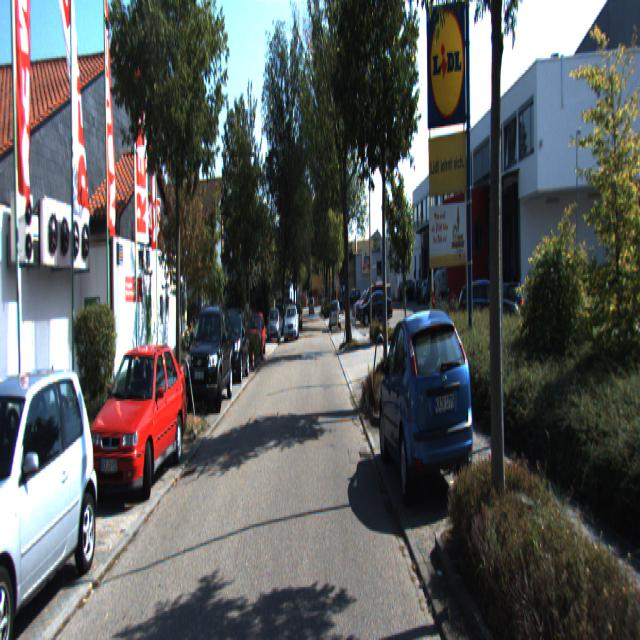Car: (0, 360, 103, 638), (378, 298, 479, 508), (89, 337, 188, 501), (185, 306, 234, 419), (215, 307, 249, 384), (359, 288, 394, 324), (243, 311, 266, 360), (283, 304, 299, 340), (329, 299, 342, 332)
